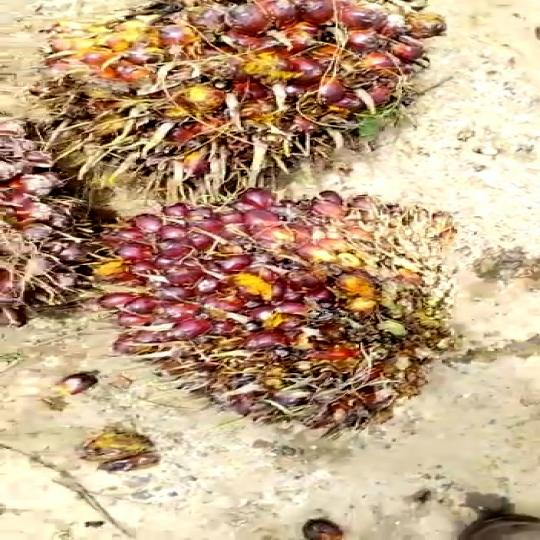masak: (102, 190, 464, 440), (38, 4, 490, 200)
